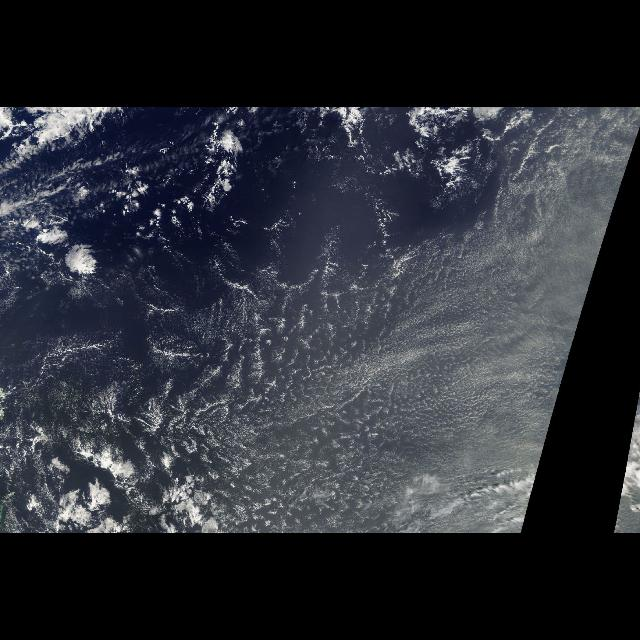Gravel: (9, 257, 372, 528)
Sugar: (160, 152, 620, 530)
